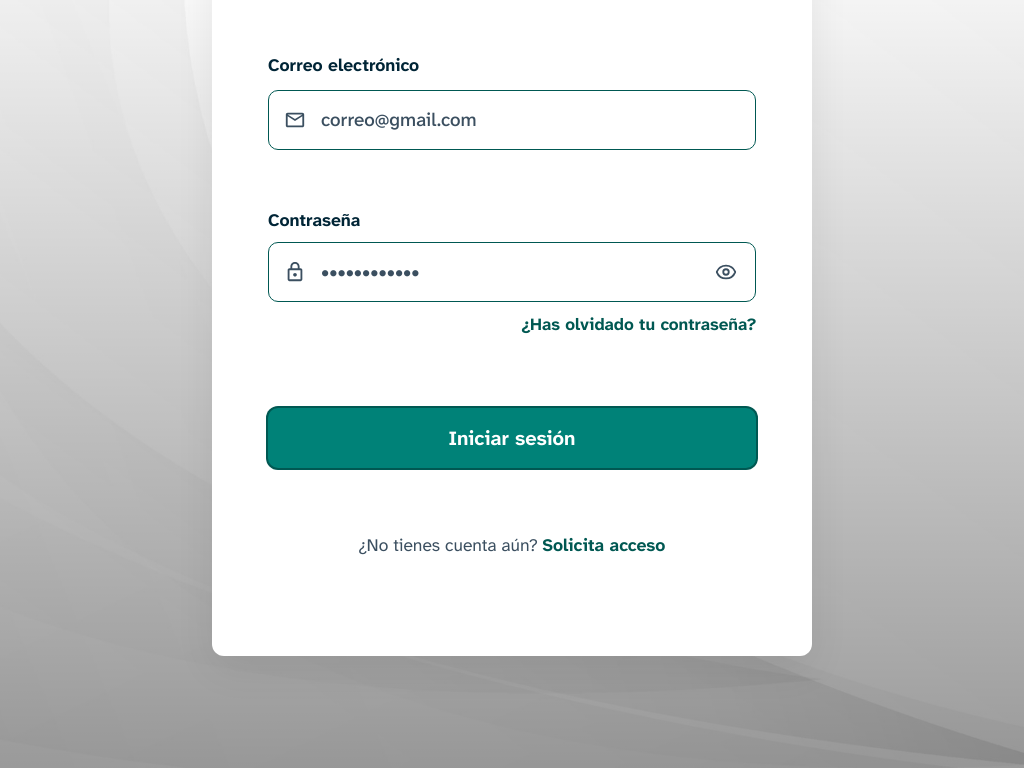
Test: LoginPage › valida los campos antes de intentar iniciar sesión
This screenshot has width=1024, height=768.
(page scrolled)
Click the button "Iniciar sesión" at (512, 438), box [268, 408, 756, 468]
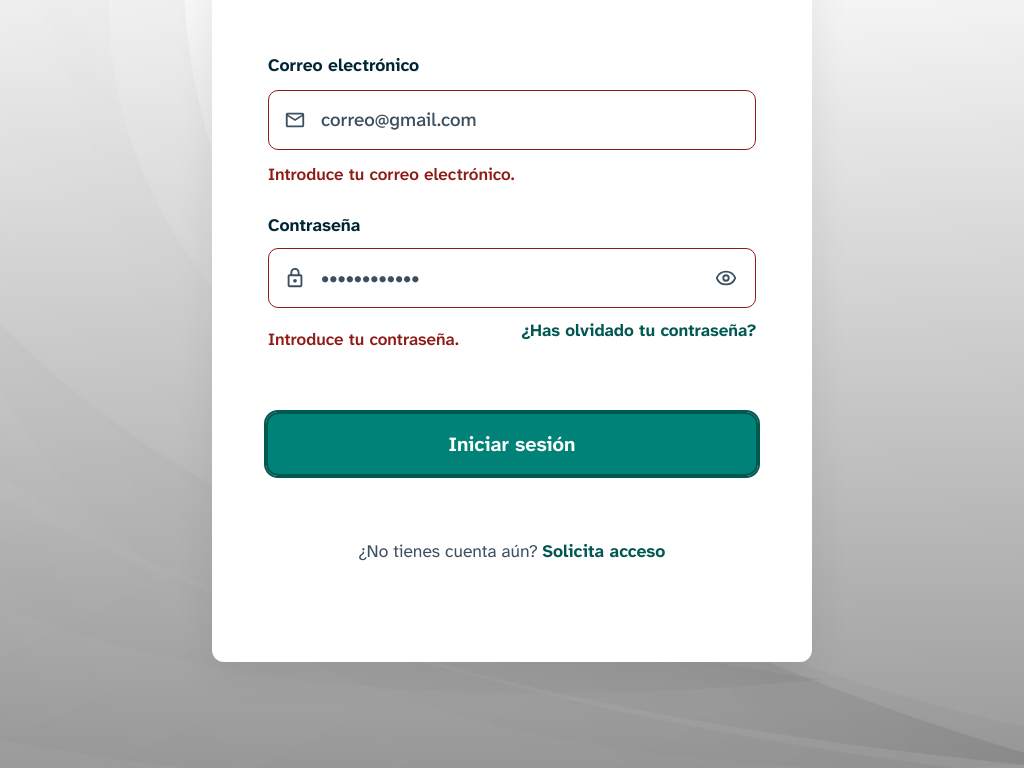
Check: the text "Introduce tu correo electrónico." is shown, box [268, 163, 515, 185]
Check: the text "Introduce tu contraseña." is shown, box [268, 328, 459, 350]
